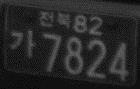2: (84, 39, 107, 78), (88, 15, 102, 36)
4: (108, 42, 130, 81)
7: (40, 32, 61, 73)
8: (65, 36, 83, 76), (72, 13, 87, 34)
가: (10, 28, 36, 59)
전북_O: (38, 9, 71, 29)
